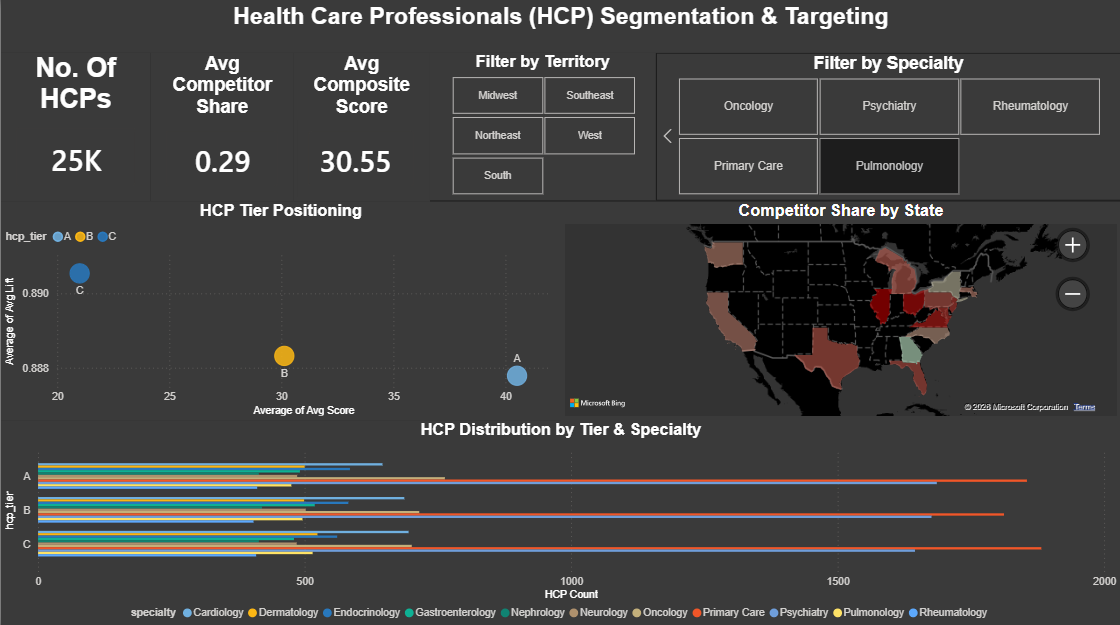

The page's visual inventory and layout, read from the dashboard file:
{"tool":"powerbi","page":{"name":"HCP Segmentation","canvas":[1280,720],"ordinal":0},"visuals":[{"type":"scatterChart","title":"HCP Tier Positioning","fields":{"X":["Avg(TierSummary.Avg Score)"],"Y":["Avg(TierSummary.Avg Lift)"],"Series":["TierSummary.hcp_tier"],"Size":["Sum(TierSummary.Doctor Count)"]},"box":[0,231.4,640,250],"z":0},{"type":"clusteredBarChart","title":"HCP Distribution by Tier & Specialty","fields":{"Category":["pharmaanalytics vw_hcp_tiering.hcp_tier"],"Y":["pharmaanalytics vw_hcp_tiering.HCP Count"],"Series":["pharmaanalytics vw_hcp_tiering.specialty"]},"box":[0,481.4,1280,238.6],"z":1000},{"type":"filledMap","title":"Competitor Share by State","fields":{"Category":["pharmaanalytics vw_hcp_tiering.state"]},"box":[640,231.4,640,250],"z":2000},{"type":"cardVisual","title":"Avg Competitor Share","fields":{"Data":["Avg(pharmaanalytics vw_hcp_tiering.competitor_share)"]},"box":[171.4,61.4,162.9,170],"z":3000},{"type":"cardVisual","title":"Avg Composite Score","fields":{"Data":["Avg(pharmaanalytics vw_hcp_tiering.composite_score)"]},"box":[334.3,61.4,155.7,170],"z":4000},{"type":"slicer","title":"Filter by Territory","fields":{"Values":["pharmaanalytics vw_hcp_tiering.territory"]},"box":[490,61.4,258.6,168.6],"z":5000},{"type":"slicer","title":"Filter by Specialty","fields":{"Values":["pharmaanalytics vw_hcp_tiering.specialty"]},"box":[748.6,61.4,531.4,168.6],"z":6000},{"type":"textbox","box":[0,0,1280,61.4],"z":7000},{"type":"cardVisual","title":"No. Of HCPs","fields":{"Data":["pharmaanalytics vw_hcp_tiering.HCP Count"]},"box":[0,61,171,170],"z":8000}]}

Visuals, with their boxes in screenshot pixels (x1, y1, x2, y2), scaled from the page's 1280x720 canvas onto the 1120x625 screenshot:
"HCP Tier Positioning" scatterChart: BBox(0, 201, 560, 418)
"HCP Distribution by Tier & Specialty" clusteredBarChart: BBox(0, 418, 1119, 624)
"Competitor Share by State" filledMap: BBox(560, 201, 1119, 418)
"Avg Competitor Share" cardVisual: BBox(150, 53, 293, 201)
"Avg Composite Score" cardVisual: BBox(293, 53, 429, 201)
"Filter by Territory" slicer: BBox(429, 53, 655, 200)
"Filter by Specialty" slicer: BBox(655, 53, 1119, 200)
textbox: BBox(0, 0, 1119, 53)
"No. Of HCPs" cardVisual: BBox(0, 53, 150, 201)
